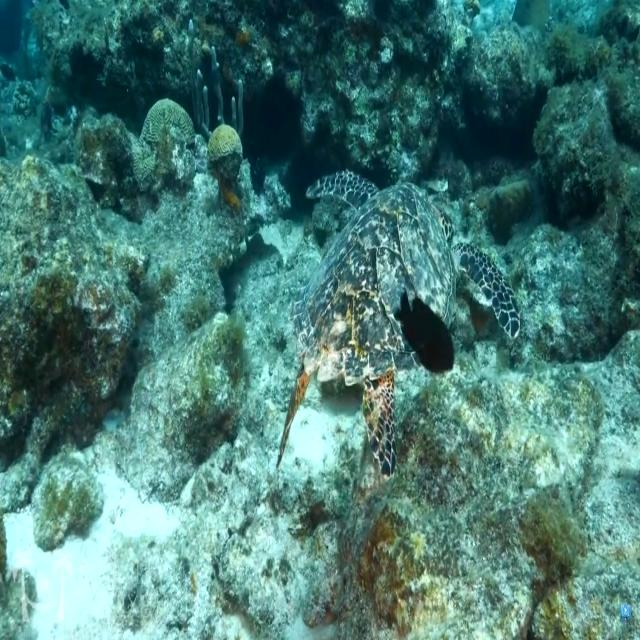Sea turtle: (282, 167, 524, 480)
